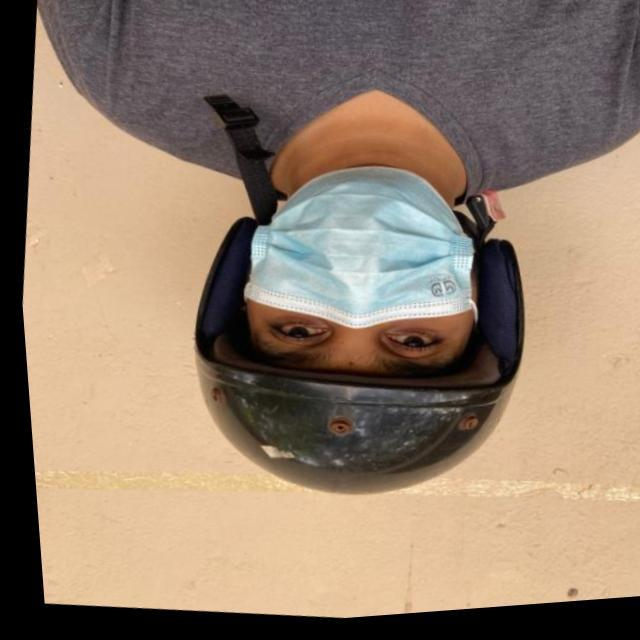with_helmet: (190, 183, 528, 499)
